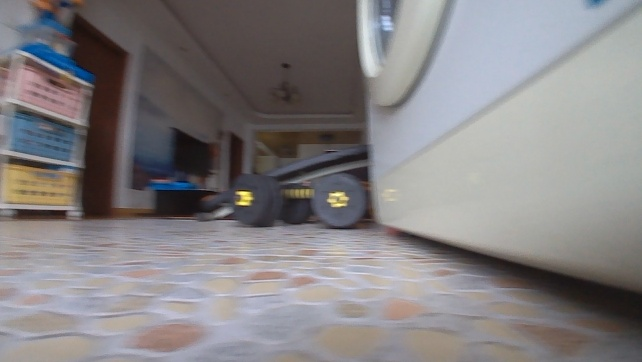washing_machine1: (350, 0, 641, 300)
